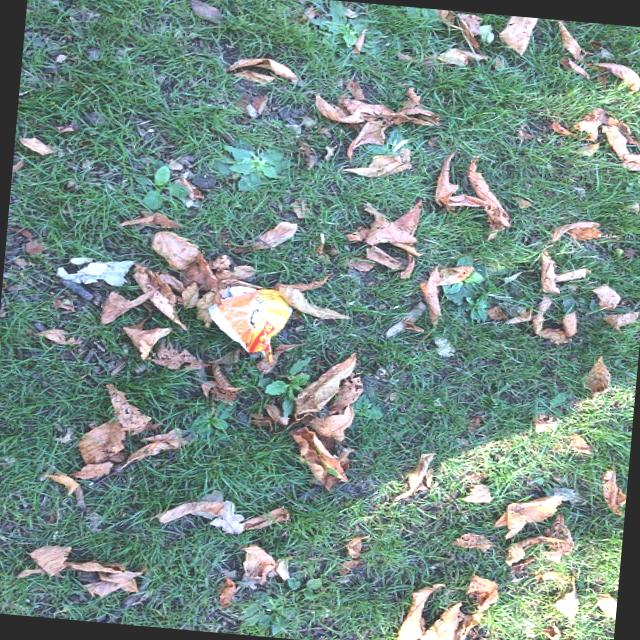Trash: (201, 283, 296, 361)
